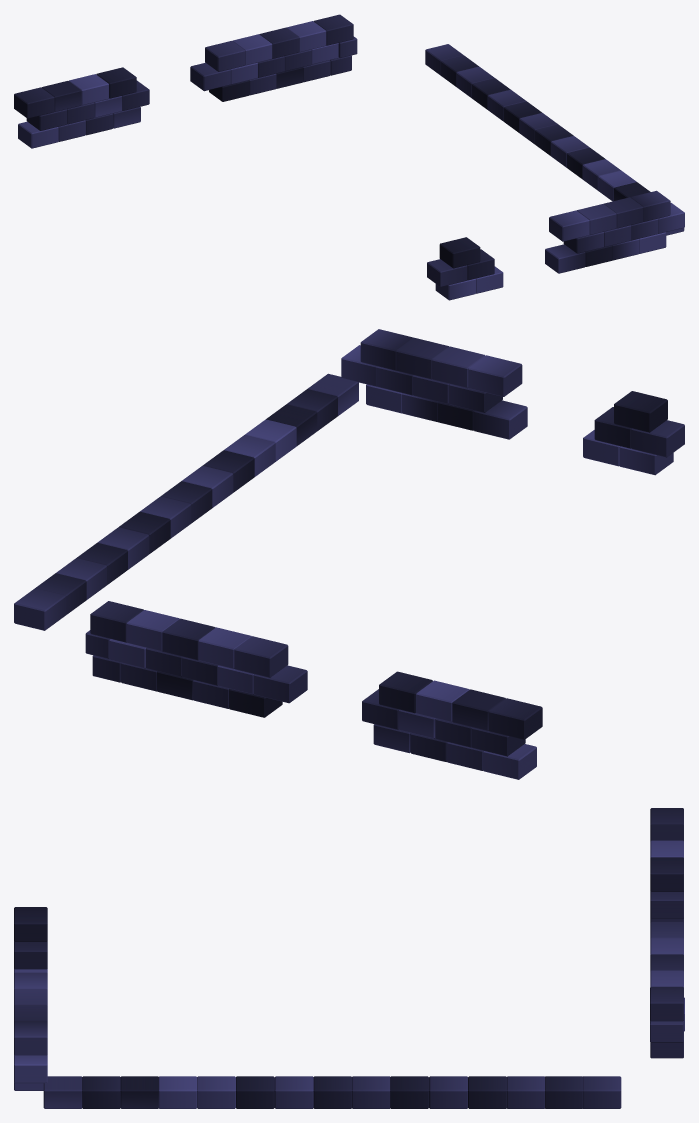
File: WallDetails.fbx
The picture shows the model from 3 angles, top to bottom: view 1: azimuth 30°, elevation 25°; view 2: azimuth 150°, elevation 25°; view 3: azimuth 270°, elevation 25°; orthographic projection. The views are drawn at different scales.
Visible parts, largest first — view 1: LH_BrickWalls_GEO, RH_BrickWalls_GEO, F_BrickWalls_GEO; view 2: LH_BrickWalls_GEO, RH_BrickWalls_GEO, F_BrickWalls_GEO; view 3: F_BrickWalls_GEO, LH_BrickWalls_GEO, RH_BrickWalls_GEO.
Boxes of the visible parts, x1,y1,x2,y2 form: LH_BrickWalls_GEO: (14, 14, 357, 148); RH_BrickWalls_GEO: (427, 190, 684, 300); F_BrickWalls_GEO: (425, 44, 684, 235); LH_BrickWalls_GEO: (85, 601, 542, 779); RH_BrickWalls_GEO: (341, 329, 684, 475); F_BrickWalls_GEO: (14, 373, 358, 630); F_BrickWalls_GEO: (43, 1076, 621, 1108); LH_BrickWalls_GEO: (650, 808, 684, 1058); RH_BrickWalls_GEO: (14, 907, 47, 1090).
Bounding box in the file's own units: 24.2 × 2.63 × 28.05.
